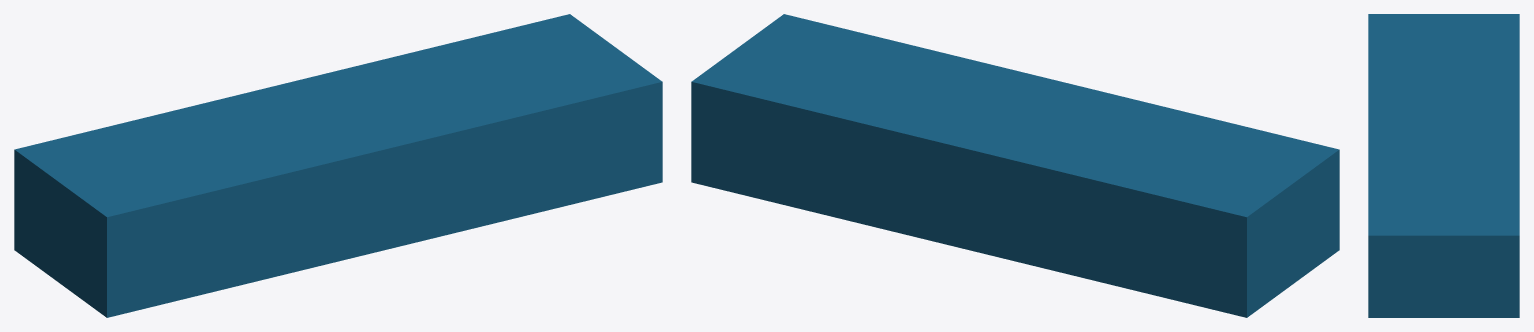
File: deep_water_wall.glb
3 views of the same model, side by side, from view 1: azimuth 30°, elevation 25°; view 2: azimuth 150°, elevation 25°; view 3: azimuth 270°, elevation 25° (orthographic). The views are drawn at different scales.
Parts seen in each view (by area): view 1: DeepWater; view 2: DeepWater; view 3: DeepWater.
Boxes of the visible parts, left/top/right/bottom form: DeepWater: left=14, top=14, right=662, bottom=317; DeepWater: left=691, top=14, right=1339, bottom=317; DeepWater: left=1368, top=14, right=1519, bottom=317.
Size of the model in its own units: 1.73 by 0.3 by 0.5.
Materials: 1 (1 with a texture image).
